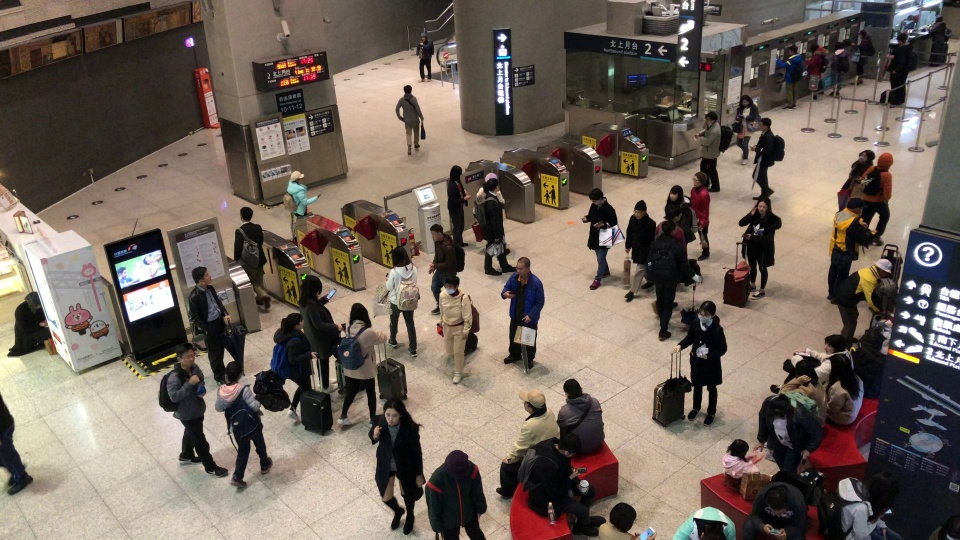person_head: (869, 470, 900, 501), (608, 501, 637, 530), (517, 388, 546, 414), (382, 397, 405, 427), (765, 486, 789, 514), (444, 449, 468, 476), (829, 353, 853, 380), (300, 274, 324, 298), (557, 432, 581, 456), (794, 360, 817, 382), (175, 343, 196, 367), (349, 301, 370, 325), (727, 438, 751, 459), (280, 312, 305, 332), (697, 299, 716, 324), (190, 266, 213, 286), (225, 361, 243, 385), (390, 245, 410, 266), (562, 378, 583, 398), (823, 333, 844, 353), (771, 399, 788, 420), (698, 527, 727, 539), (516, 256, 531, 279), (874, 258, 892, 277), (846, 197, 867, 213), (23, 290, 40, 309), (664, 204, 681, 222), (942, 521, 959, 539), (444, 274, 460, 293), (239, 204, 253, 225), (588, 187, 604, 205), (877, 151, 893, 169), (756, 197, 772, 215), (633, 199, 648, 218), (668, 184, 684, 201), (448, 165, 463, 182), (429, 224, 444, 241), (692, 170, 707, 187), (660, 220, 677, 235), (289, 170, 306, 183), (759, 116, 772, 132), (858, 149, 874, 162), (487, 179, 500, 192), (705, 111, 718, 124), (739, 94, 752, 106), (896, 32, 908, 44), (484, 172, 497, 182), (788, 44, 798, 55), (403, 84, 413, 93), (809, 42, 819, 51), (858, 29, 867, 38), (420, 33, 427, 42), (835, 41, 844, 48), (936, 15, 943, 22)
person_vbox: (516, 432, 606, 539), (157, 343, 228, 477), (367, 397, 426, 535), (214, 360, 274, 489), (672, 299, 729, 427), (494, 388, 560, 498), (334, 302, 388, 429), (762, 359, 829, 461), (184, 265, 237, 385), (643, 219, 693, 341), (756, 391, 826, 478), (816, 469, 902, 539), (423, 449, 488, 540), (297, 274, 344, 396), (824, 197, 878, 300), (269, 311, 318, 423), (769, 333, 854, 395), (500, 256, 545, 370), (740, 470, 813, 540), (438, 274, 481, 386), (834, 258, 892, 341), (737, 197, 782, 301), (472, 177, 517, 276), (233, 204, 273, 311), (580, 187, 619, 292), (384, 246, 420, 358), (555, 378, 606, 456), (0, 393, 34, 496), (427, 223, 465, 315), (472, 171, 513, 256), (623, 199, 656, 299), (694, 111, 733, 192), (823, 353, 865, 428), (860, 151, 892, 246), (6, 290, 50, 358), (749, 117, 785, 199), (597, 499, 658, 539), (394, 83, 426, 156), (720, 438, 764, 490), (672, 505, 736, 540), (775, 44, 808, 111), (888, 32, 918, 105), (663, 184, 698, 246), (445, 165, 471, 247), (689, 170, 711, 261), (735, 94, 761, 166), (282, 169, 320, 218), (654, 204, 689, 257), (839, 148, 875, 199), (804, 42, 829, 101), (849, 29, 875, 85), (829, 41, 850, 96), (415, 31, 436, 83), (927, 14, 952, 42), (927, 520, 959, 540)
